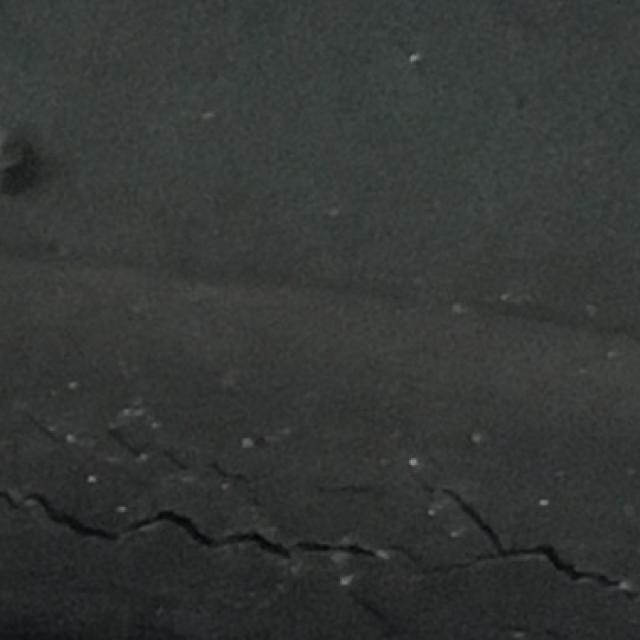Cracks: (0, 350, 638, 638)
